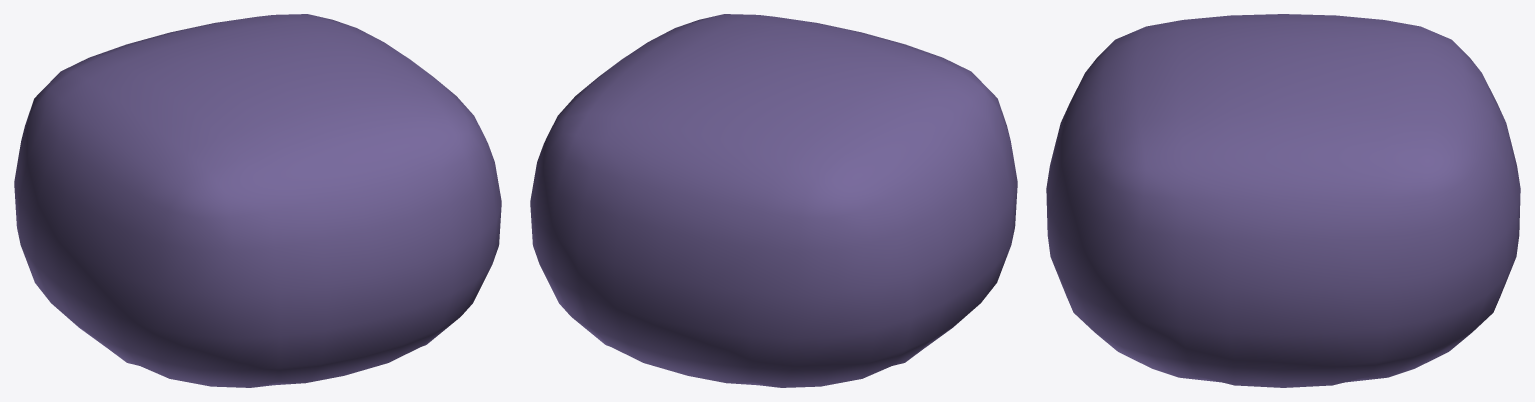
File: Pouf1_5.fbx
The picture shows the model from 3 angles, left to right: view 1: azimuth 30°, elevation 25°; view 2: azimuth 150°, elevation 25°; view 3: azimuth 270°, elevation 25°; orthographic projection. The views are drawn at different scales.
Visible parts, largest first — view 1: pCube2893; view 2: pCube2893; view 3: pCube2893.
Part boxes in pixels (x1,y1,x2,y2): pCube2893: (14, 14, 501, 387); pCube2893: (530, 14, 1017, 387); pCube2893: (1046, 14, 1520, 387).
Size of the model in its own units: 34.57 by 23.24 by 34.56.
